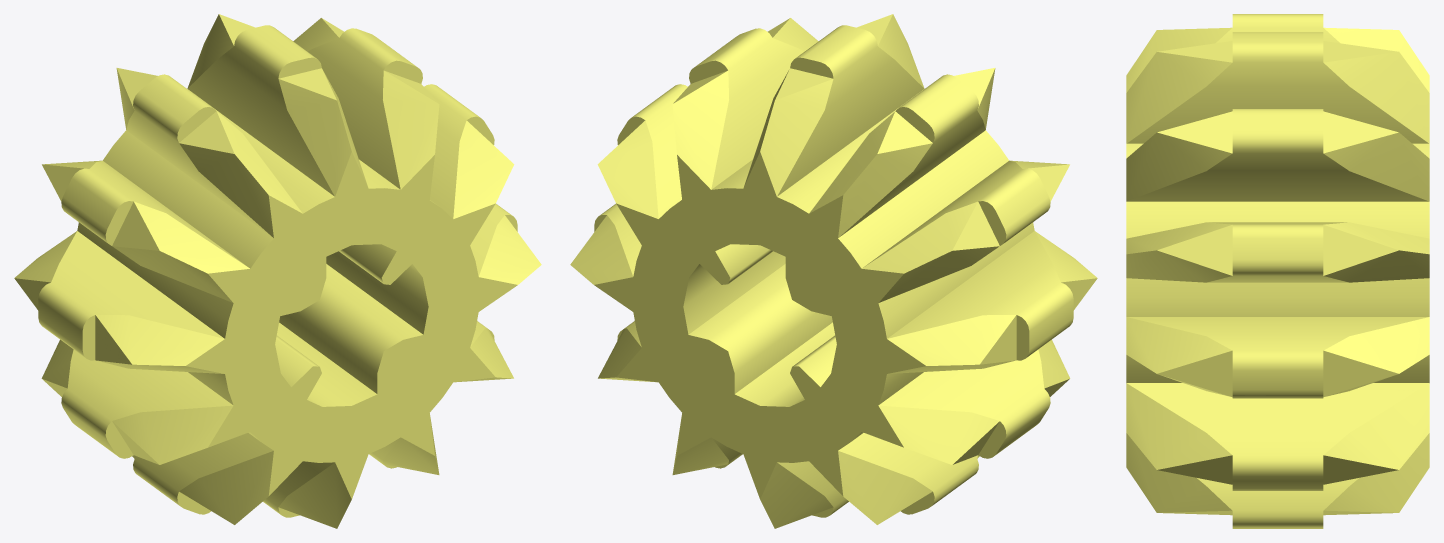
3 views of the same model, side by side, from view 1: azimuth 30°, elevation 25°; view 2: azimuth 150°, elevation 25°; view 3: azimuth 270°, elevation 25° (orthographic). The views are drawn at different scales.
Parts seen in each view (by area): view 1: 32270.dat; view 2: 32270.dat; view 3: 32270.dat.
Boxes of the visible parts, box(x1,y1,x2,y2) form: 32270.dat: box(14, 14, 541, 528); 32270.dat: box(570, 14, 1097, 528); 32270.dat: box(1126, 14, 1429, 528).
Size of the model in its own units: 0.0136 by 0.0136 by 0.008.
